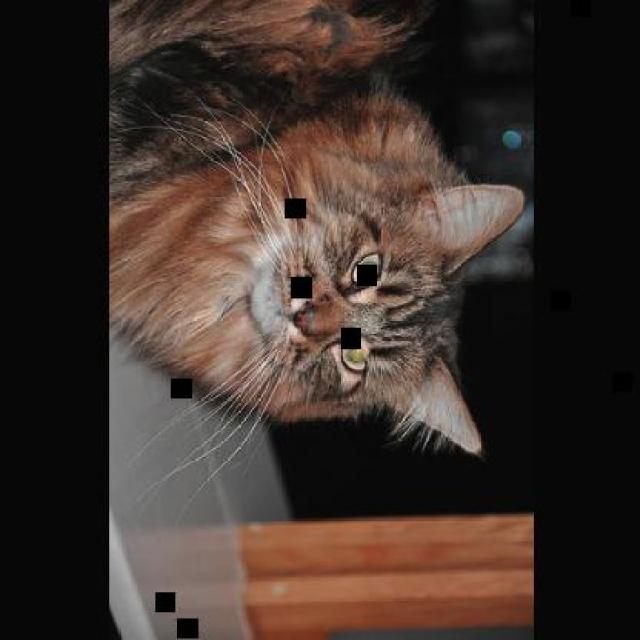unauthorized: (107, 0, 524, 512)
